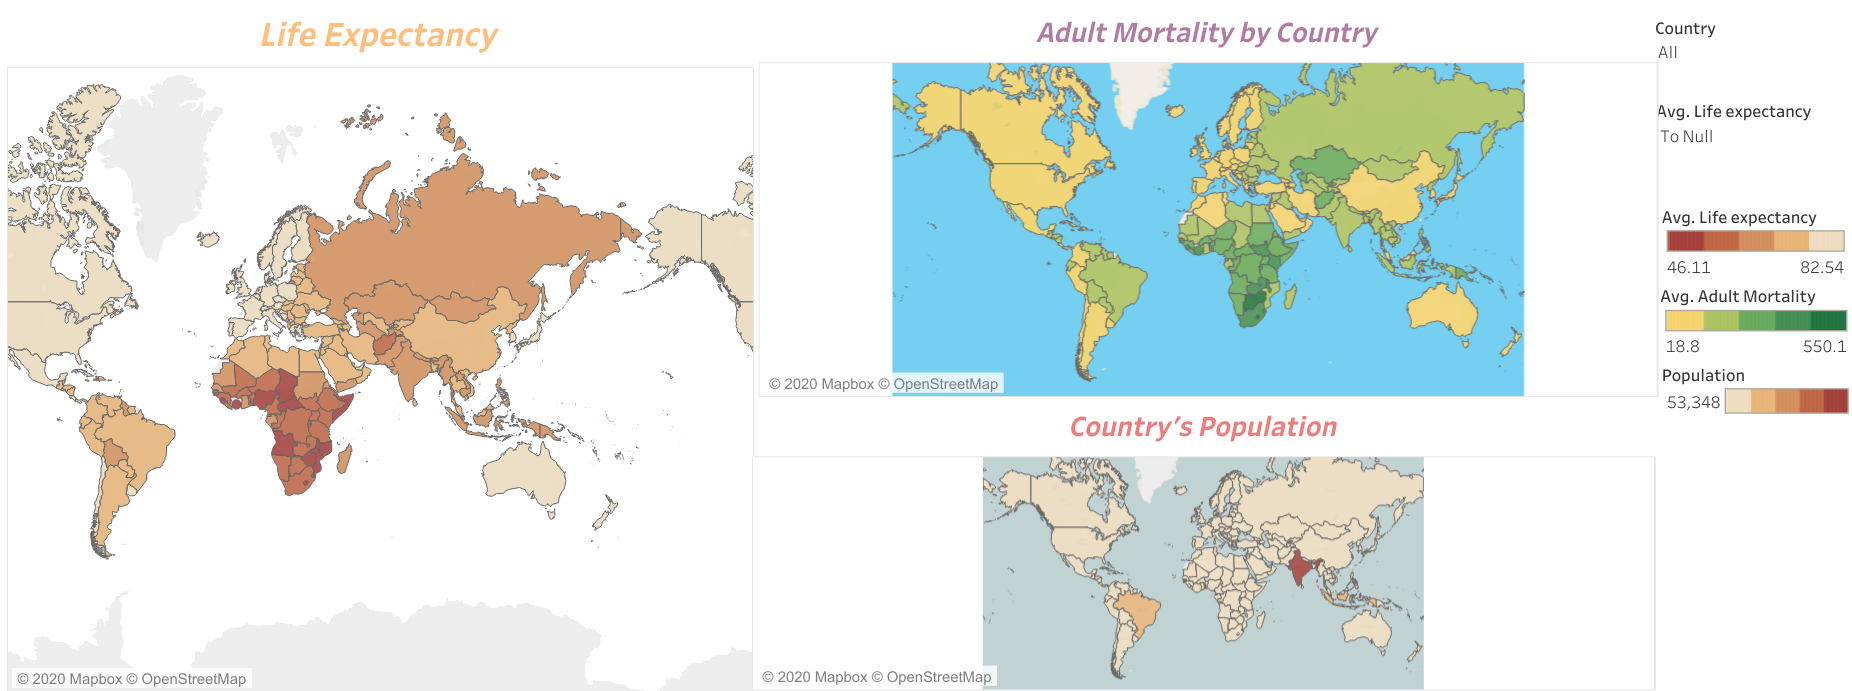

The dashboard page shown, as its layout file describes it:
{"tool":"tableau","page":{"name":"Dashboard 1","canvas":[1000,1000],"units":"permille","ordinal":0},"visuals":[{"type":"worksheet","title":"Life Expectancy","mark":"Automatic","box":[3.7,2.4,403.4,998.8]},{"type":"worksheet","title":"Adult Mortality by country","mark":"Automatic","box":[409.6,4.9,485.7,570.9]},{"type":"worksheet","title":"Country's Population","mark":"Automatic","param":"[federated.0hne5ep1ldq4k111doeu51cfr4kq].[none:Country:nk]","box":[892.8,19.6,111,75.8]},{"type":"worksheet","title":"Life Expectancy","mark":"Automatic","param":"[federated.0hne5ep1ldq4k111doeu51cfr4kq].[avg:Life expectancy:qk]","box":[894,140.6,105.4,118.6]},{"type":"worksheet","title":"Life Expectancy","mark":"Automatic","param":"[federated.0hne5ep1ldq4k111doeu51cfr4kq].[avg:Life expectancy:qk]","box":[896.5,287.3,102.2,122.2]},{"type":"worksheet","title":"Adult Mortality by country","mark":"Automatic","param":"[federated.0hne5ep1ldq4k111doeu51cfr4kq].[avg:Adult Mortality:qk]","box":[895.9,401,104.1,122.2]},{"type":"worksheet","title":"Country's Population","mark":"Automatic","box":[405.9,574.6,487.5,424.2]}]}

Visuals, with their boxes on the dashboard's canvas, which has no fixed pixel size, in thousandths of its width and height (x1, y1, x2, y2). These are canvas units, not pixel positions in the 1852x691 screenshot, which may show the page scaled, cropped or inside an application window:
"Life Expectancy" worksheet: 4,2,407,1001
"Adult Mortality by country" worksheet: 410,5,895,576
"Country's Population" worksheet: 893,20,1004,95
"Life Expectancy" worksheet: 894,141,999,259
"Life Expectancy" worksheet: 896,287,999,410
"Adult Mortality by country" worksheet: 896,401,1000,523
"Country's Population" worksheet: 406,575,893,999
